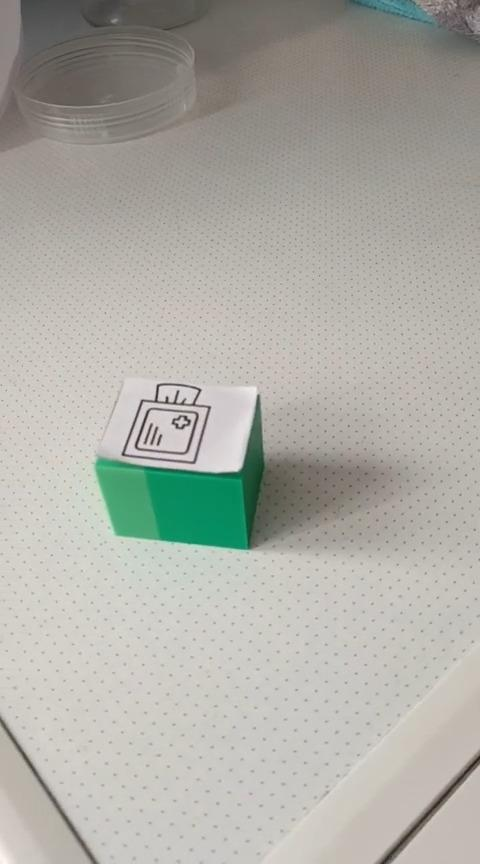Gauze: (92, 375, 265, 550)
